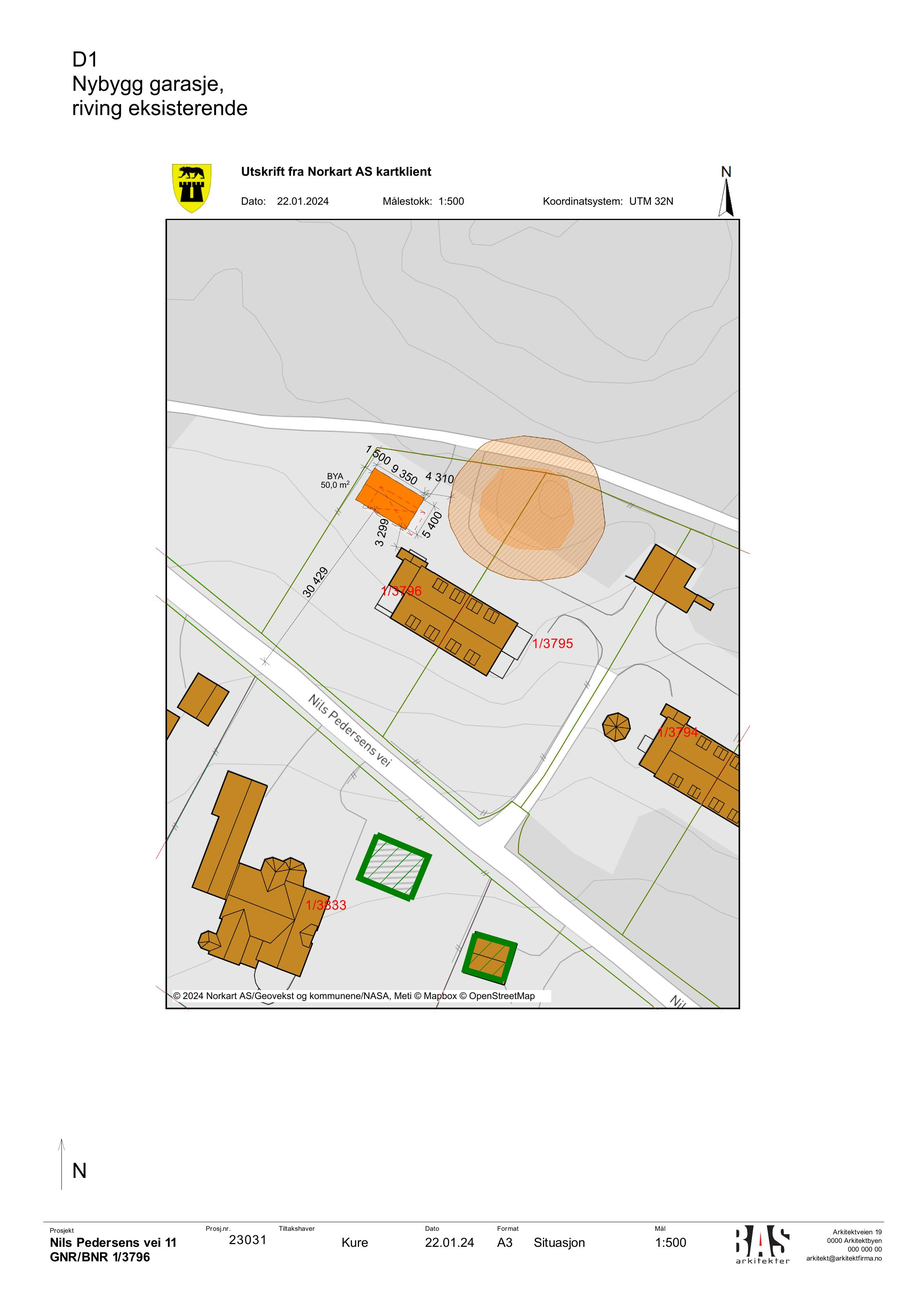situasjonskart: (165, 218, 741, 1007)
